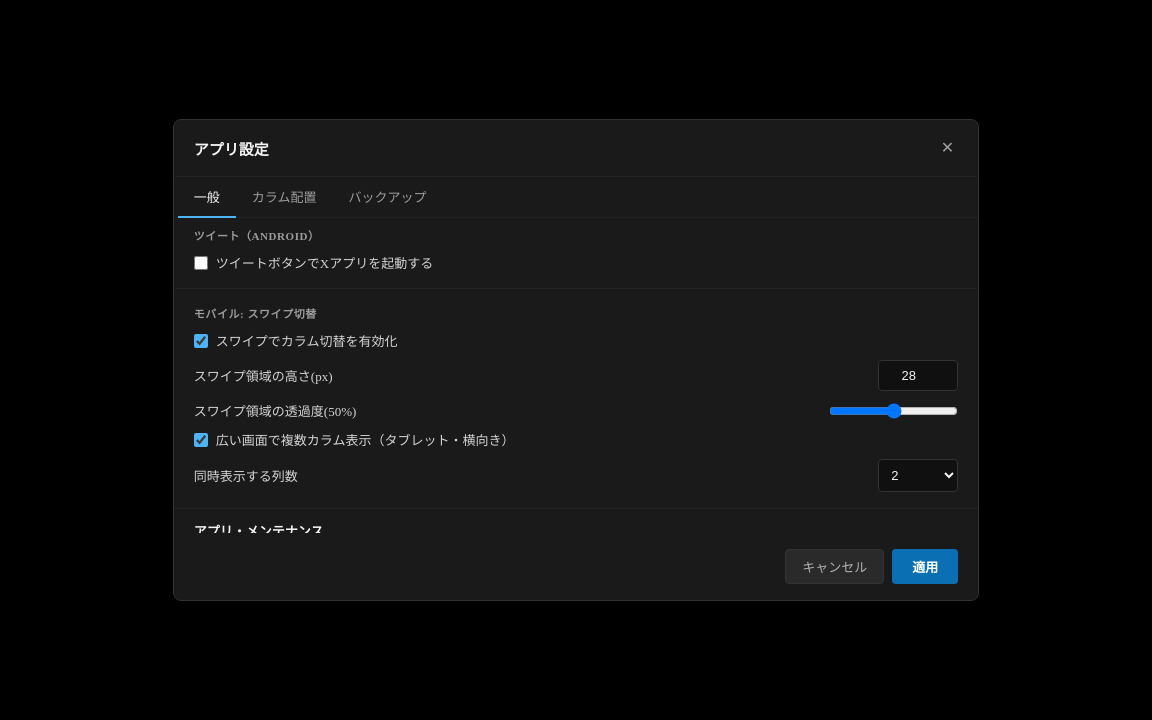
Test: AppSettingsPanel スワイプ切替設定 › 高さ入力からフォーカスが外れると有効範囲へ補正される
(page scrolled)
Step 1. Clear the number field labelled "スワイプ領域の高さ(px)" → x=918, y=376, box [878, 360, 958, 391]
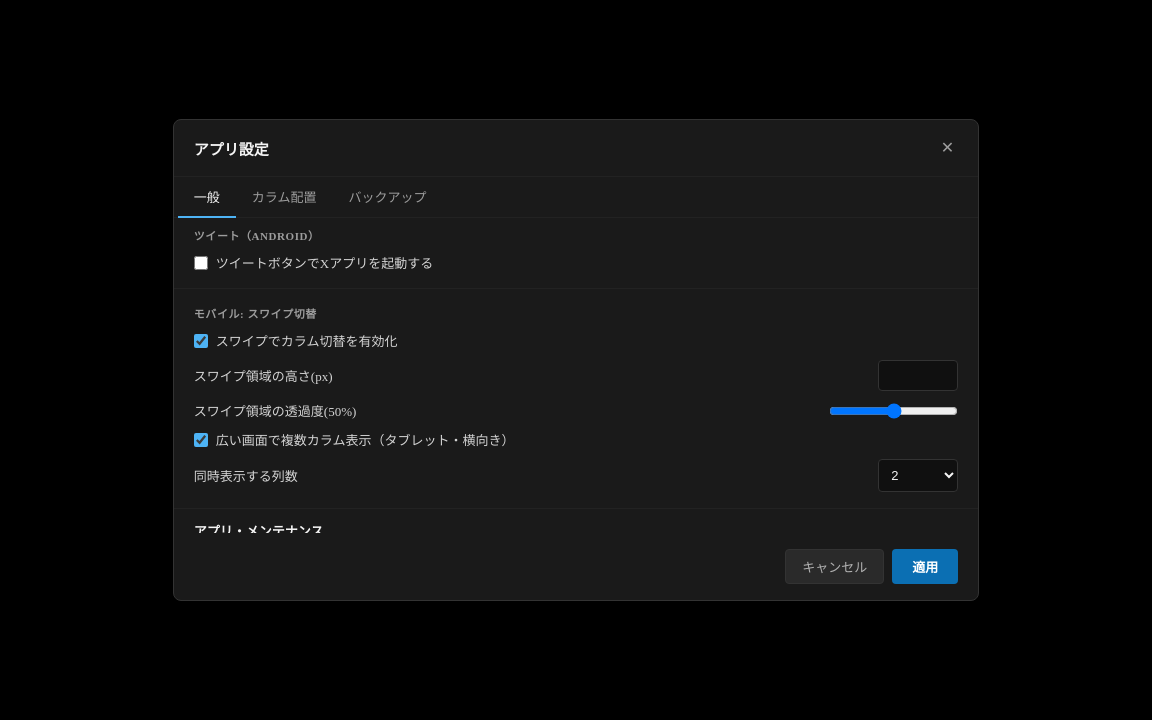
Step 2. Leave the number field labelled "スワイプ領域の高さ(px)", box [878, 360, 958, 391]
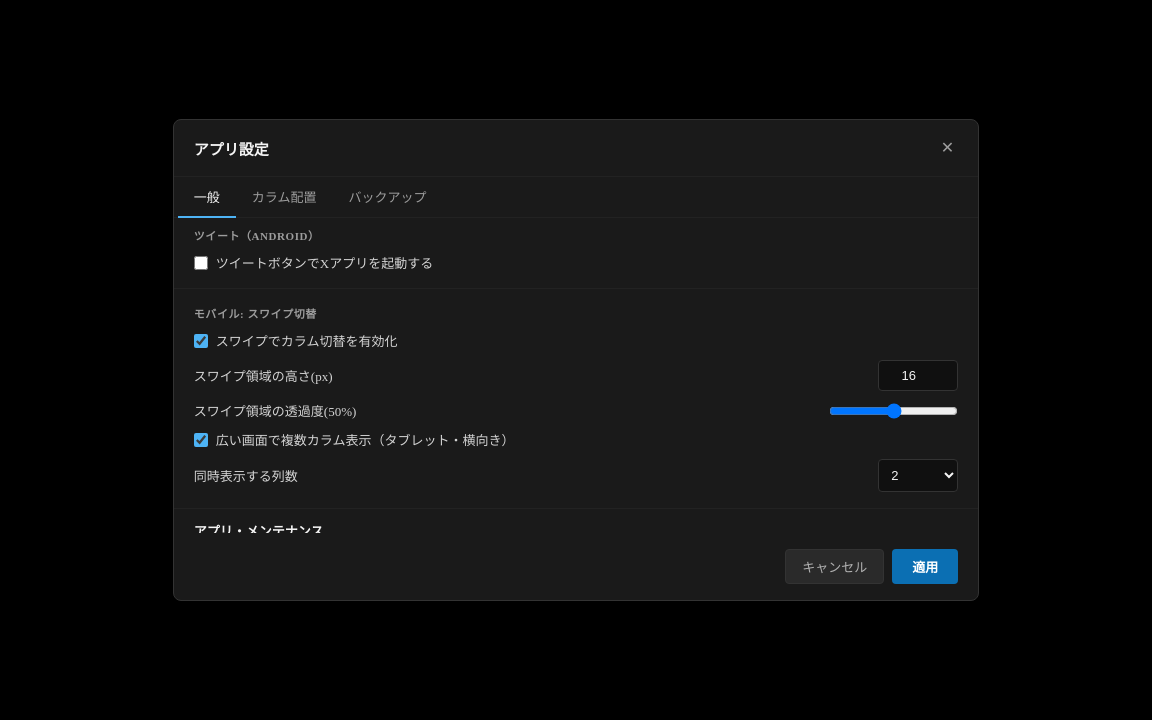
Expected: the number field labelled "スワイプ領域の高さ(px)" holds "16", [878, 360, 958, 391]
